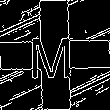M_N: (32, 29, 78, 81)
